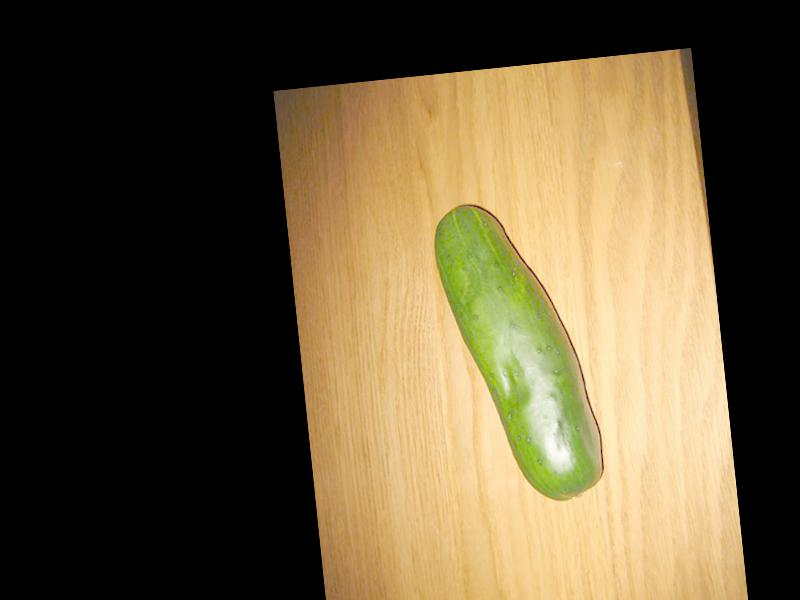Cucumber: (432, 192, 606, 506)
